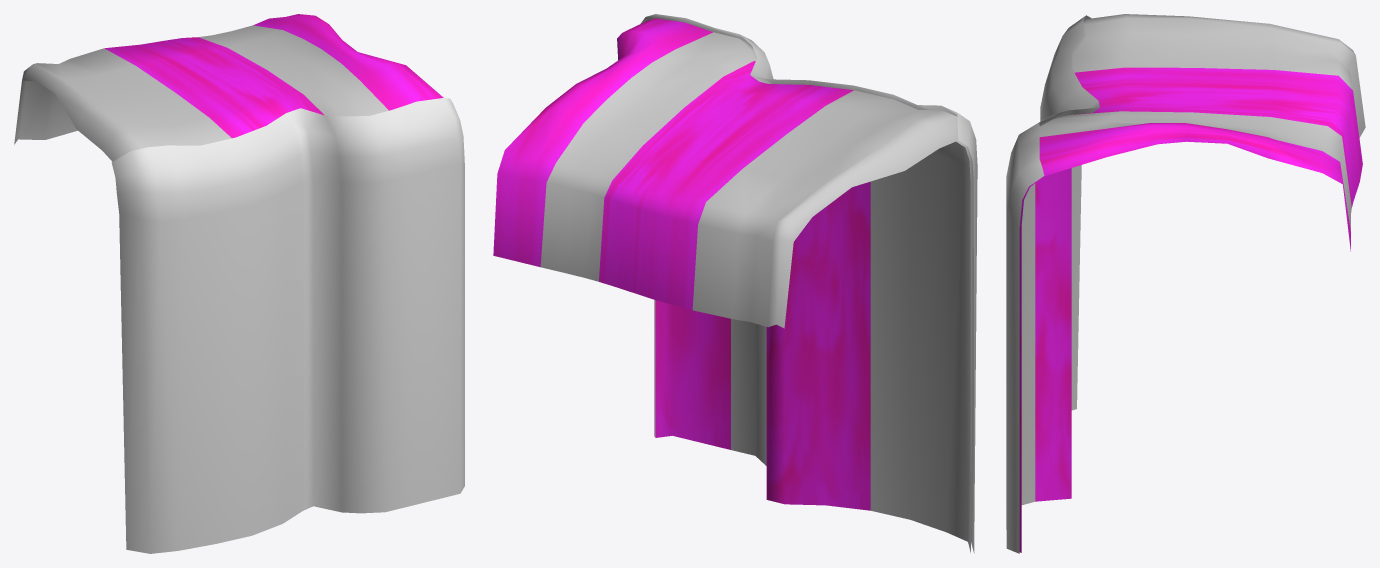
The model's file is env_bosstrain_lavafall01.fbx.
The picture shows the model from 3 angles, left to right: view 1: azimuth 30°, elevation 25°; view 2: azimuth 150°, elevation 25°; view 3: azimuth 270°, elevation 25°; orthographic projection. The views are drawn at different scales.
Parts seen in each view (by area): view 1: env_bosstrain_lavafall01; view 2: env_bosstrain_lavafall01; view 3: env_bosstrain_lavafall01.
Part boxes in pixels (left/top/right/bottom): env_bosstrain_lavafall01: left=14, top=14, right=464, bottom=553; env_bosstrain_lavafall01: left=493, top=14, right=977, bottom=553; env_bosstrain_lavafall01: left=1006, top=14, right=1365, bottom=553.
Bounding box in the file's own units: 420 × 518 × 409.
